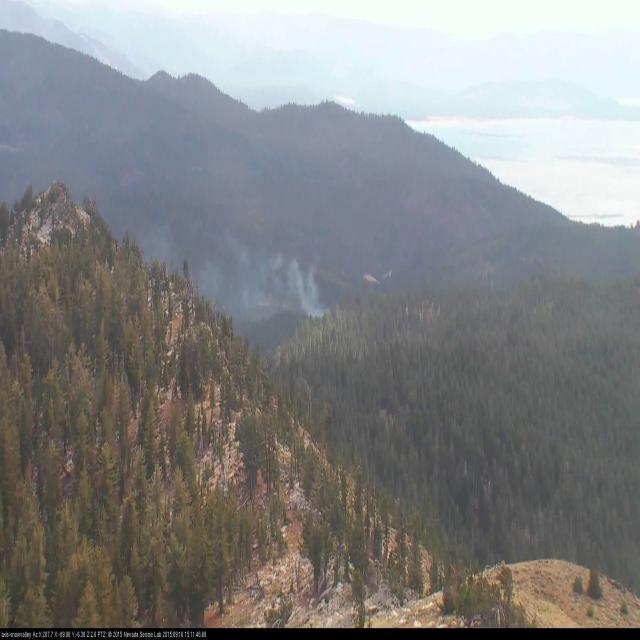smoke: (181, 224, 339, 324)
